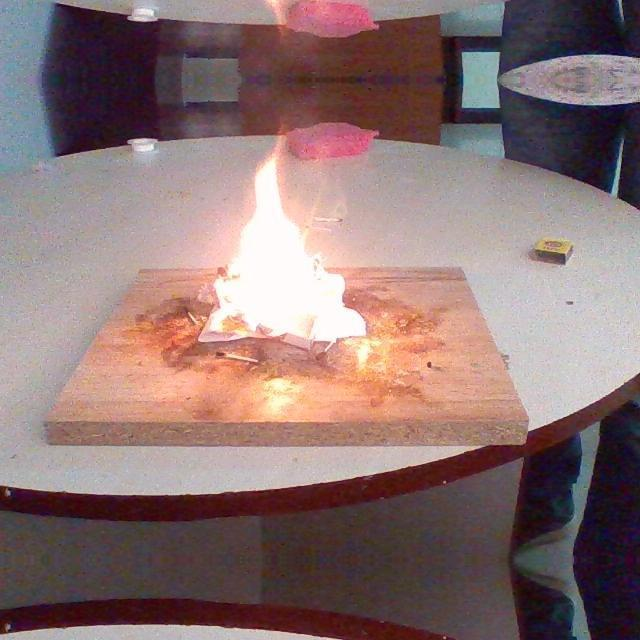smoke: (208, 152, 350, 327)
